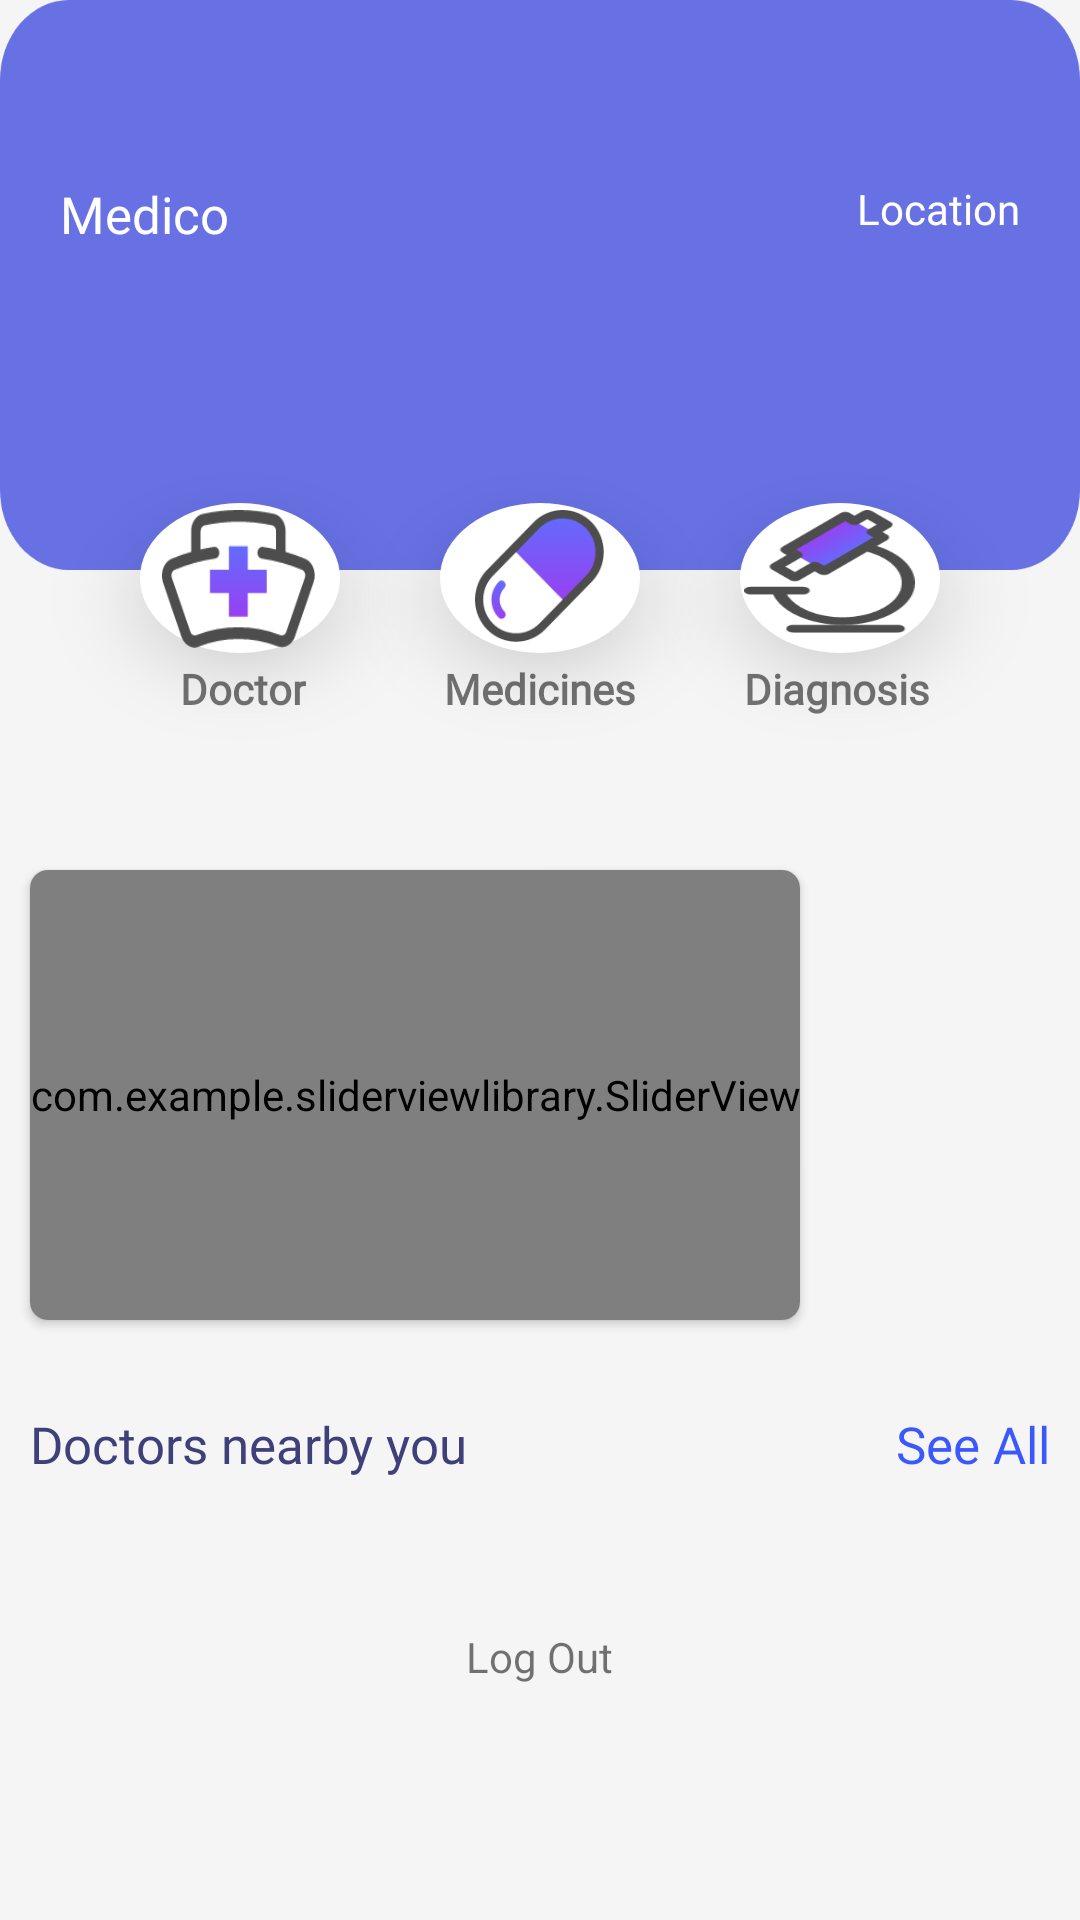

Icons on this 1080*1920 Android screen, each with its box as (x1, y1, x2, y2):
pill: (475, 510, 604, 642)
